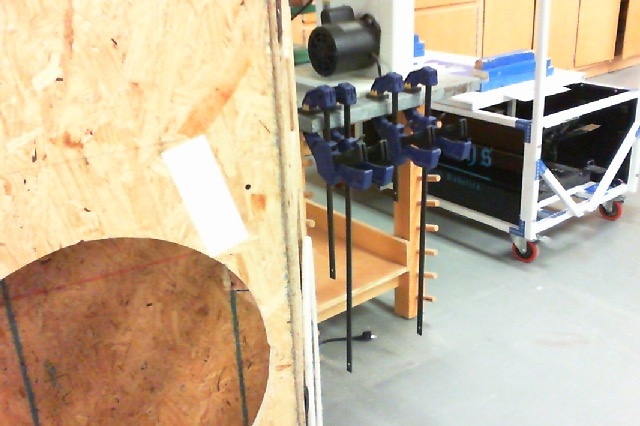Tape: (160, 133, 248, 257)
